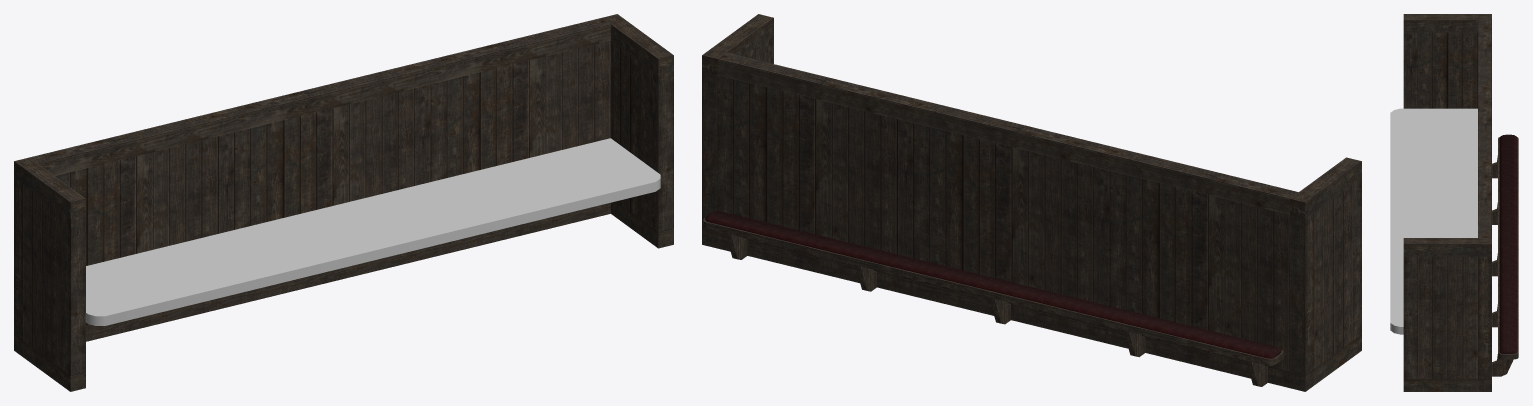
The model's file is church_bench.DAE.
The picture shows the model from 3 angles, left to right: view 1: azimuth 30°, elevation 25°; view 2: azimuth 150°, elevation 25°; view 3: azimuth 270°, elevation 25°; orthographic projection. The views are drawn at different scales.
Visible parts, largest first — view 1: Box004, Box003; view 2: Box004, Box007; view 3: Box004, Box003, Box007.
Boxes of the visible parts, x1,y1,x2,y2 form: Box004: (14, 14, 673, 391); Box003: (85, 138, 660, 325); Box004: (702, 14, 1361, 391); Box007: (705, 210, 1281, 358); Box004: (1403, 14, 1518, 391); Box003: (1390, 108, 1477, 334); Box007: (1499, 134, 1517, 353).
Size of the model in its own units: 5 by 1.5 by 1.18.
